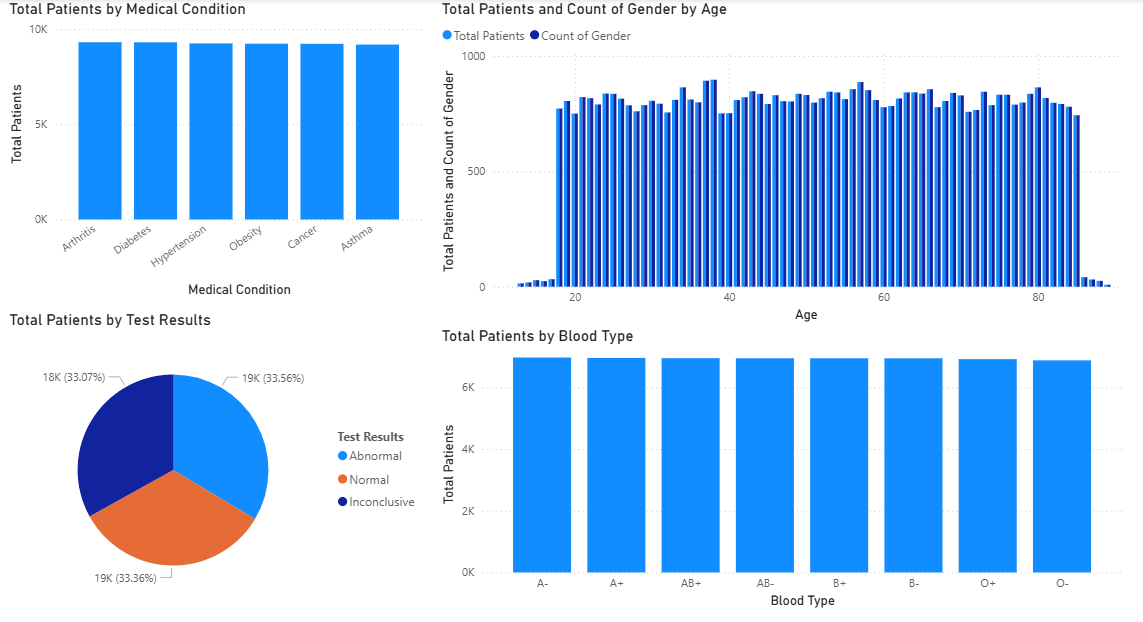

The dashboard page shown, as its layout file describes it:
{"tool":"powerbi","page":{"name":"Patient & Medical Insights","canvas":[1280,720],"ordinal":1},"visuals":[{"type":"clusteredColumnChart","fields":{"Category":["healthcare_dataset (2).Medical Condition"],"Y":["healthcare_dataset (2).Total Patients"]},"box":[9.6,0,463.8,332.1],"z":0},{"type":"pieChart","fields":{"Category":["healthcare_dataset (2).Test Results"],"Y":["healthcare_dataset (2).Total Patients"]},"box":[10,342,464,332],"z":1000},{"type":"clusteredColumnChart","fields":{"Category":["healthcare_dataset (2).Age"],"Y":["healthcare_dataset (2).Total Patients","CountNonNull(healthcare_dataset (2).Gender)"]},"box":[484.2,0,756.9,359.5],"z":2000},{"type":"clusteredColumnChart","fields":{"Category":["healthcare_dataset (2).Blood Type"],"Y":["healthcare_dataset (2).Total Patients"]},"box":[484,360,757,314],"z":3000}]}

Visuals, with their boxes on the page's 1280x720 design canvas (x1, y1, x2, y2). These are canvas units, not pixel positions in the 1143x622 screenshot, which may show the page scaled, cropped or inside an application window:
clusteredColumnChart - healthcare_dataset (2).Medical Condition x healthcare_dataset (2).Total Patients: {"x1": 10, "y1": 0, "x2": 473, "y2": 332}
pieChart - healthcare_dataset (2).Test Results x healthcare_dataset (2).Total Patients: {"x1": 10, "y1": 342, "x2": 474, "y2": 674}
clusteredColumnChart - healthcare_dataset (2).Age x healthcare_dataset (2).Total Patients: {"x1": 484, "y1": 0, "x2": 1241, "y2": 360}
clusteredColumnChart - healthcare_dataset (2).Blood Type x healthcare_dataset (2).Total Patients: {"x1": 484, "y1": 360, "x2": 1241, "y2": 674}
